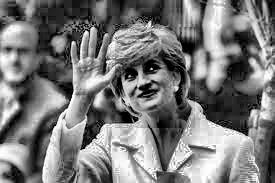happy: (116, 27, 196, 128)
